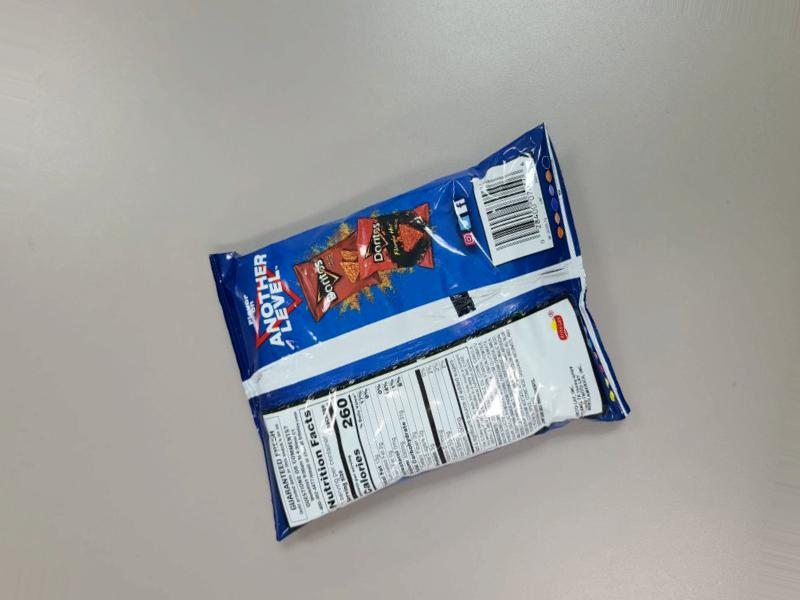doritos: (312, 177, 632, 596)
